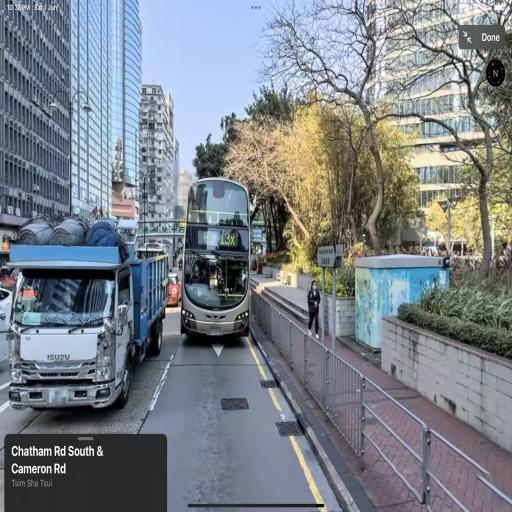Roads: (2, 285, 512, 483)
Trees: (185, 52, 506, 265)
